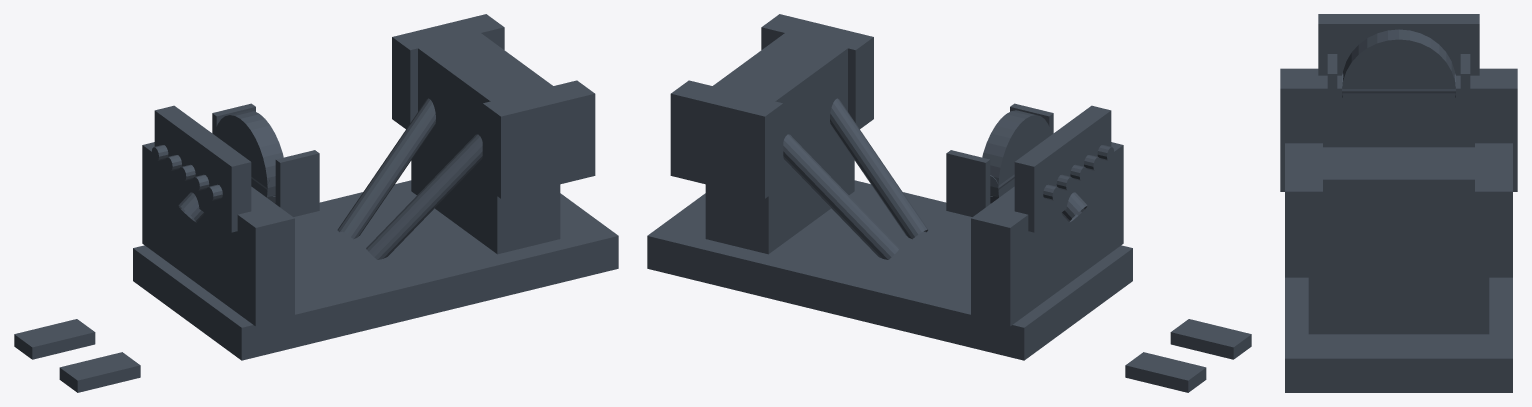
File: 10_detailed_cockpit.glb
The picture shows the model from 3 angles, left to right: view 1: azimuth 30°, elevation 25°; view 2: azimuth 150°, elevation 25°; view 3: azimuth 270°, elevation 25°; orthographic projection. The views are drawn at different scales.
Visible parts, largest first — view 1: 10_detailed_cockpit; view 2: 10_detailed_cockpit; view 3: 10_detailed_cockpit.
Part boxes in pixels (x1,y1,x2,y2): 10_detailed_cockpit: (14,14,618,392); 10_detailed_cockpit: (647,14,1251,392); 10_detailed_cockpit: (1280,14,1517,392).
Bounding box in the file's own units: 66 × 24.75 × 25.
